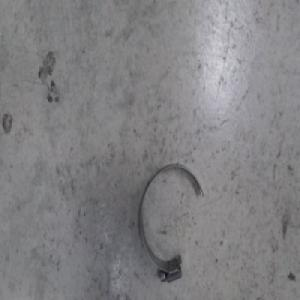AdjustableClamp: (138, 161, 204, 283)
